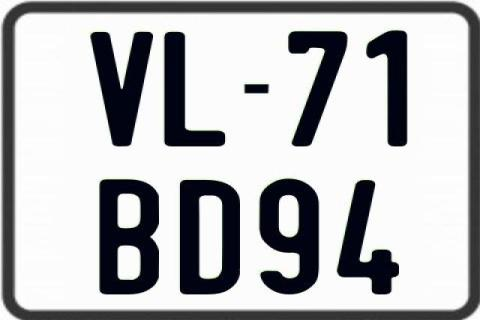0: (257, 178, 322, 298), (285, 31, 350, 150), (334, 180, 398, 294), (364, 30, 411, 146)
B: (100, 179, 161, 299)
D: (180, 178, 240, 296)
L: (161, 30, 228, 146)
V: (88, 31, 152, 149)
